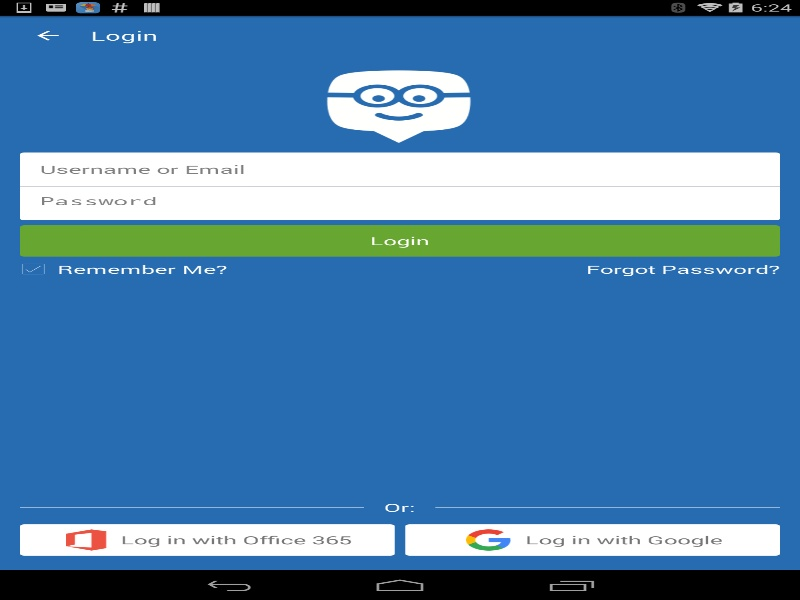Button: (10, 15, 85, 55)
Input: (20, 155, 780, 186), (20, 186, 780, 217)
